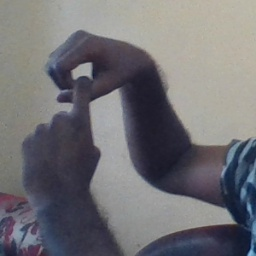Q: (20, 29, 149, 179)
